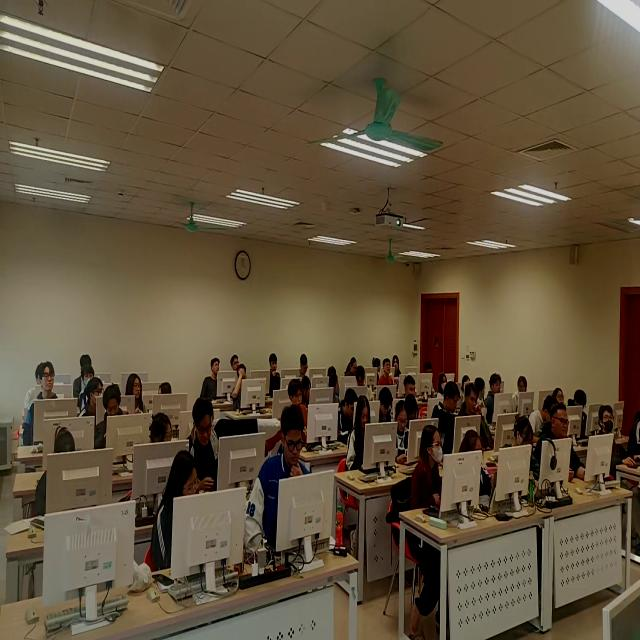raise_head: (415, 430, 452, 529), (541, 409, 583, 480), (28, 362, 66, 440), (235, 367, 264, 416), (484, 374, 508, 423), (203, 357, 227, 402), (264, 350, 286, 394), (126, 376, 147, 419), (379, 361, 398, 391), (290, 383, 306, 410), (554, 387, 568, 410), (232, 353, 242, 374)
using_computer: (154, 455, 217, 583), (262, 413, 319, 552), (42, 433, 104, 517), (187, 401, 245, 484), (462, 429, 501, 513), (597, 406, 631, 489), (350, 397, 382, 478), (103, 389, 134, 450), (572, 389, 595, 441), (335, 393, 360, 440), (375, 389, 397, 428), (424, 362, 442, 396), (357, 370, 376, 400), (299, 354, 318, 381)
using_phone: (506, 418, 542, 497), (395, 397, 413, 467)
